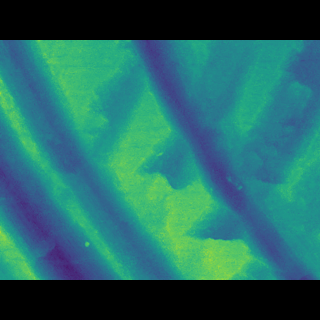Loch: (125, 70, 320, 250), (0, 69, 191, 249)
